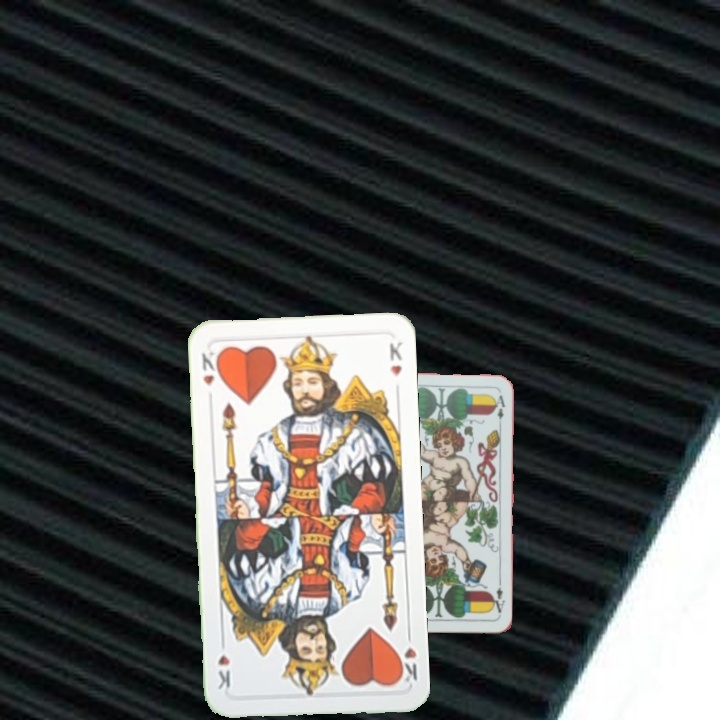EA: (488, 577, 507, 615)
HK: (393, 626, 420, 686), (198, 347, 223, 389)
